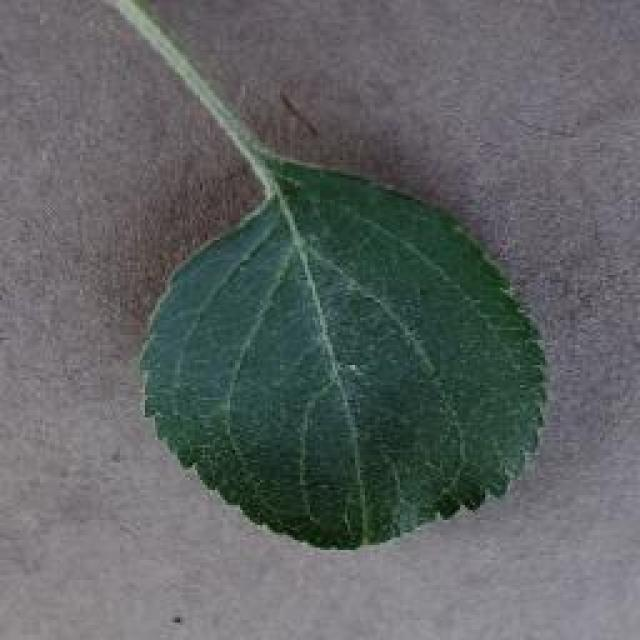Apple___healthy: (135, 156, 550, 554)
